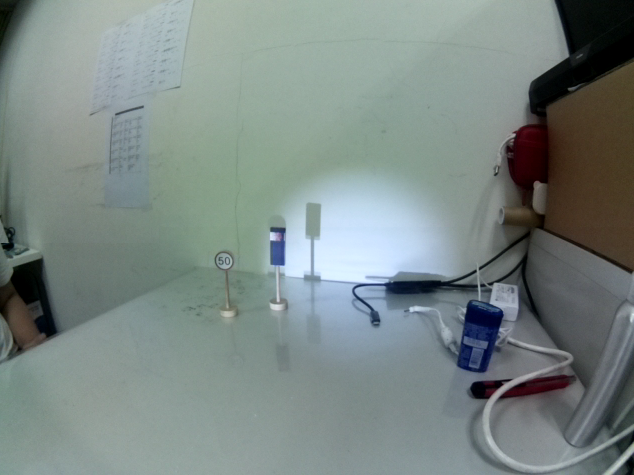Red: (268, 224, 288, 267)
Speed50: (215, 247, 234, 272)
